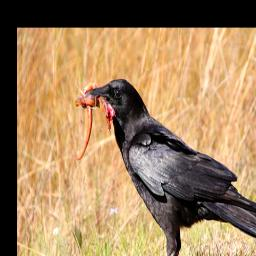Crow: (65, 72, 256, 256)
